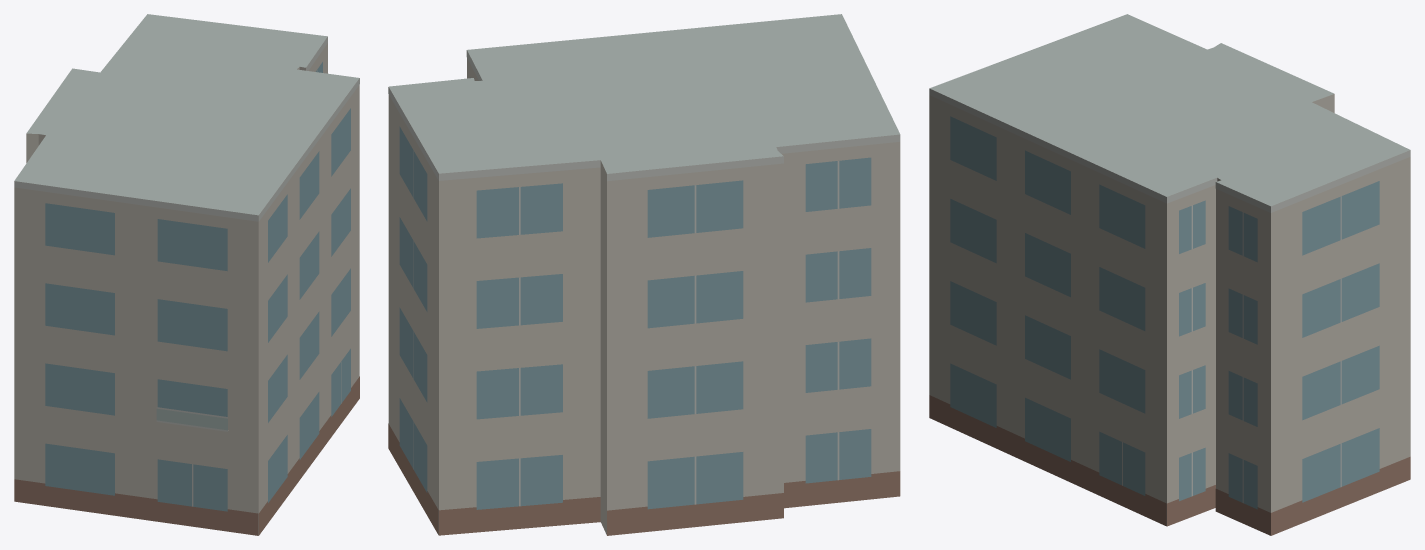
Rendered from survey-upis-32814407.glb.
3 views of the same model, side by side, from view 1: azimuth 30°, elevation 25°; view 2: azimuth 150°, elevation 25°; view 3: azimuth 270°, elevation 25° (orthographic). The views are drawn at different scales.
Parts seen in each view (by area): view 1: survey-upis-32814407.tmp; view 2: survey-upis-32814407.tmp; view 3: survey-upis-32814407.tmp.
Boxes of the visible parts, x1,y1,x2,y2 form: survey-upis-32814407.tmp: (14, 14, 359, 535); survey-upis-32814407.tmp: (388, 14, 900, 535); survey-upis-32814407.tmp: (929, 14, 1410, 535).
Size of the model in its own units: 15.22 by 12.15 by 16.1.
